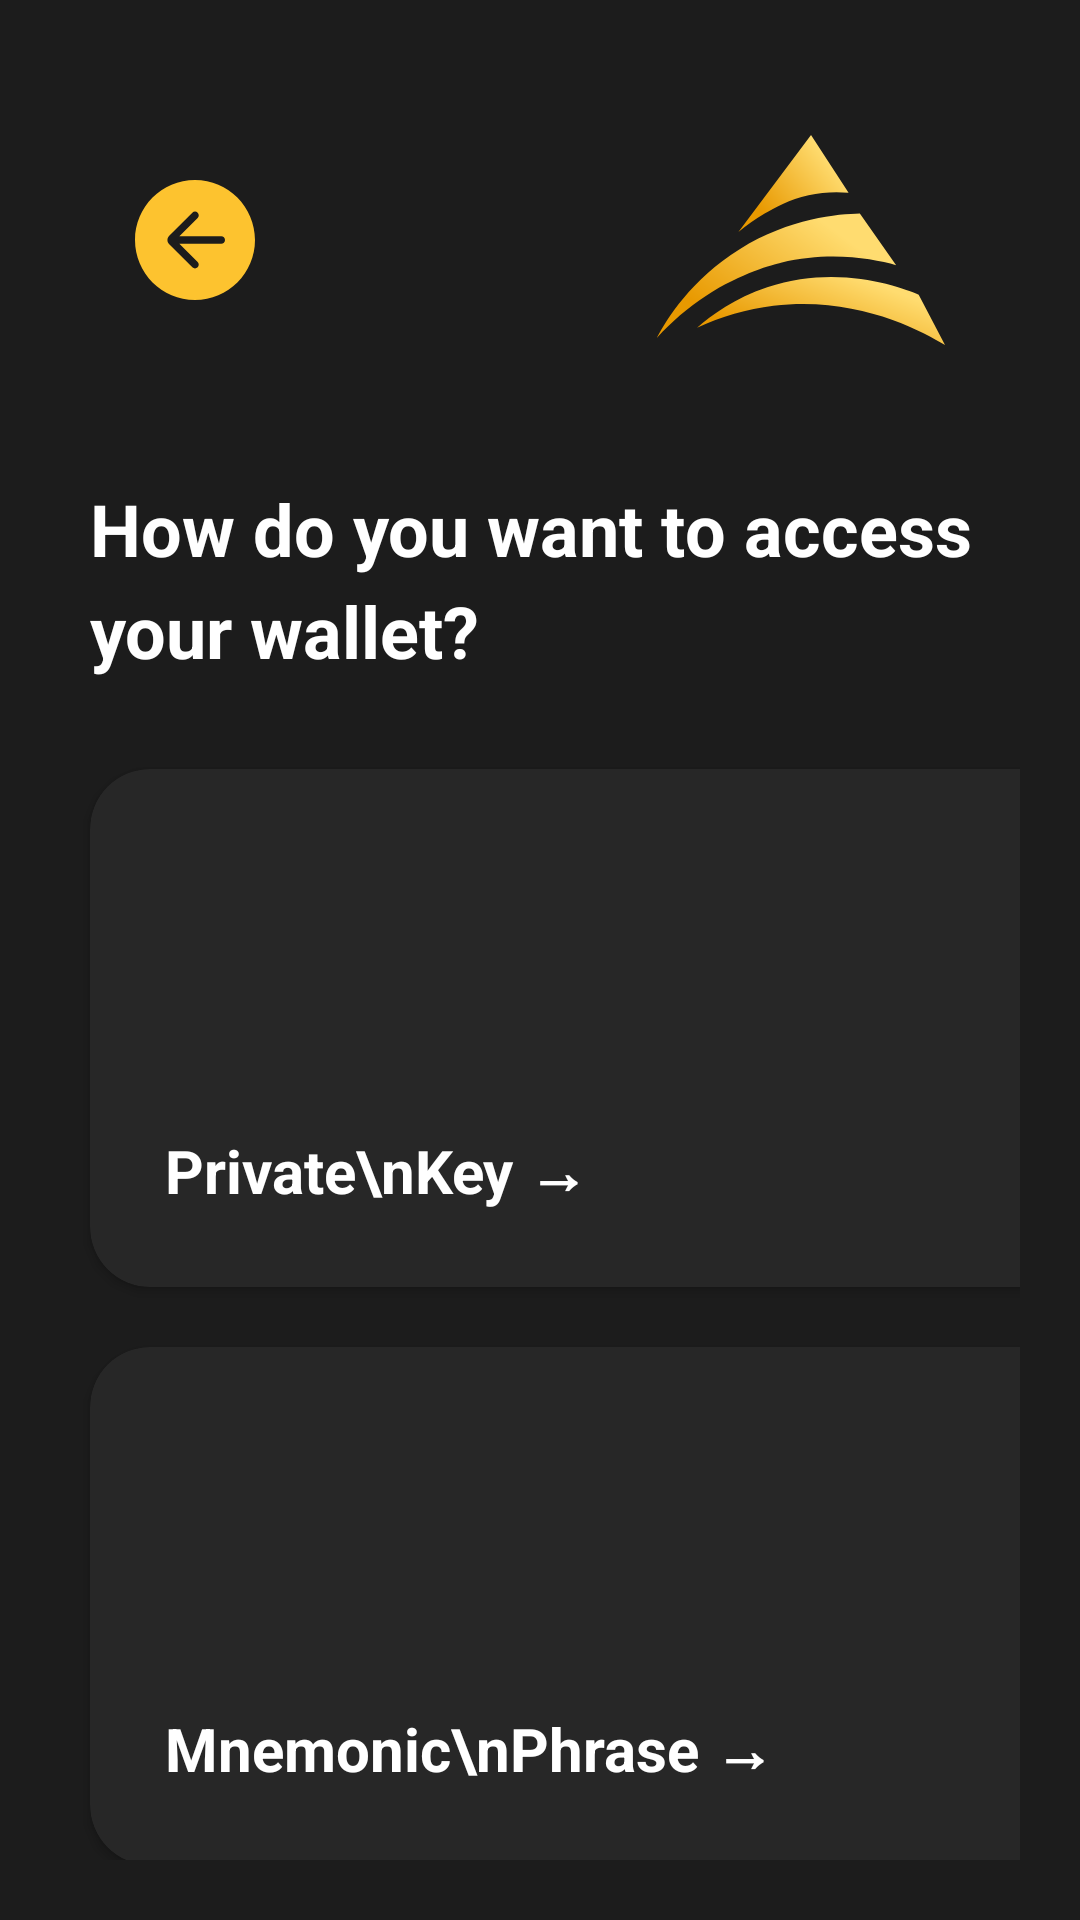

Icons on this 1080px×1920px Android screen, each with its box as [left=x1, top=y1, right=x2, bottom=y2]:
back: [left=135, top=180, right=255, bottom=300]
